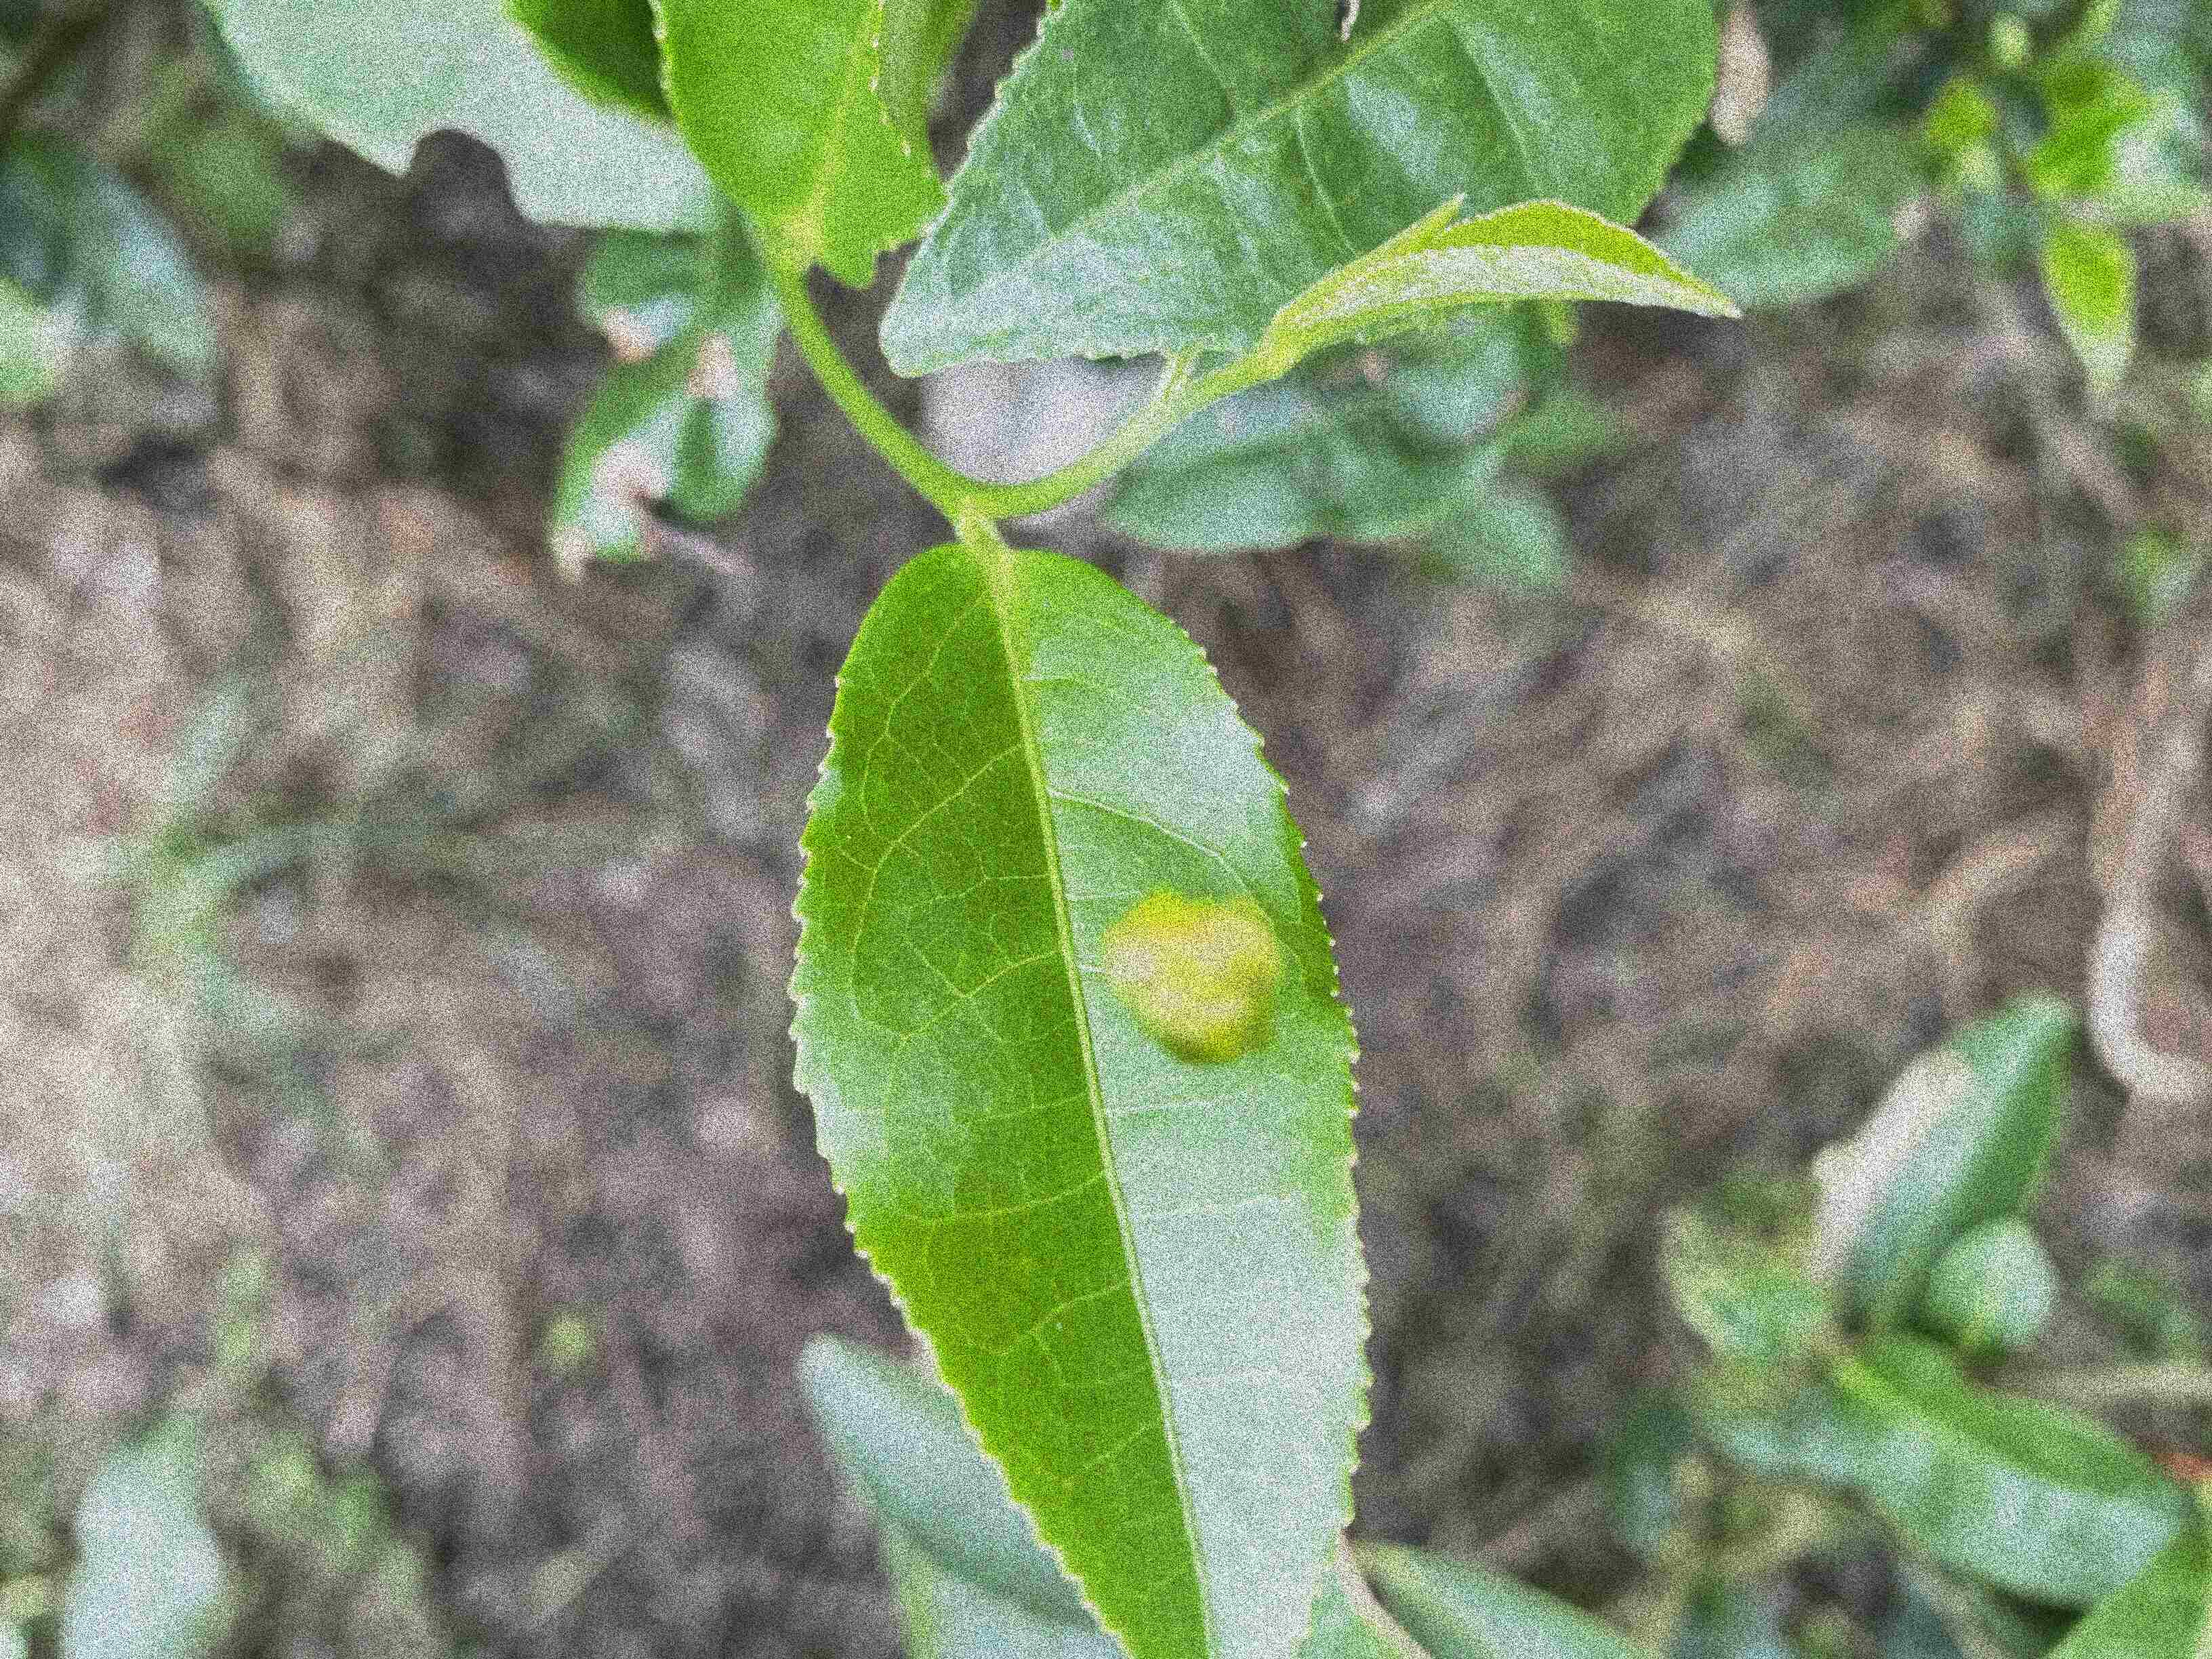chabing_low: (787, 542, 1378, 1657)
